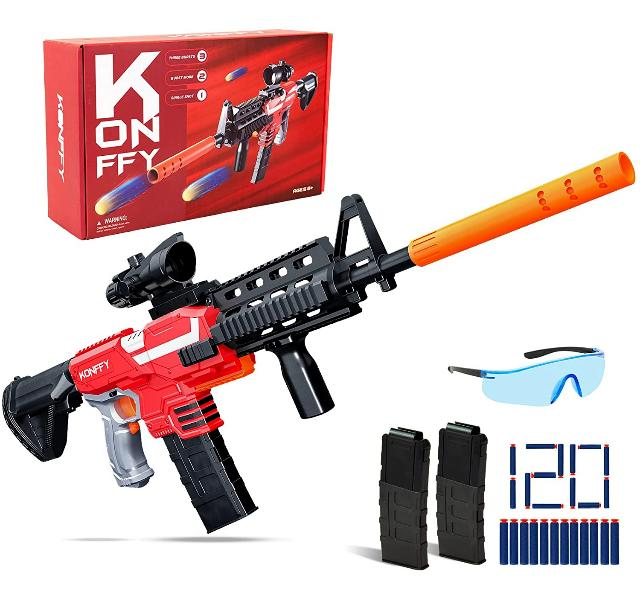rifle: (11, 135, 628, 536)
